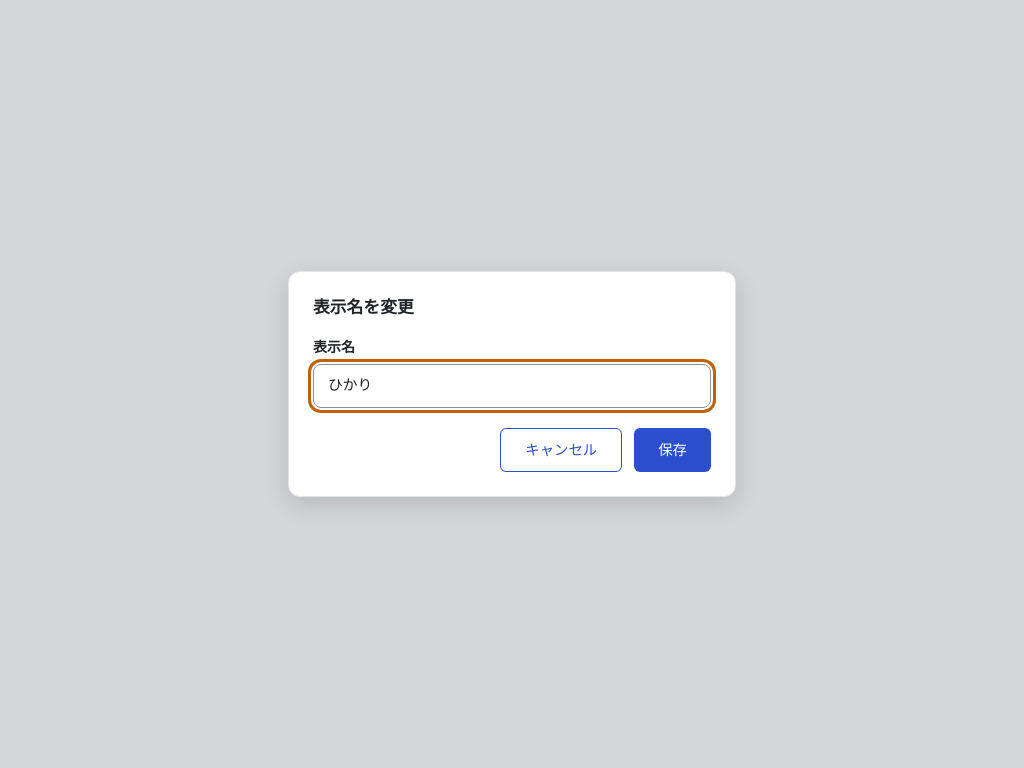
Test: DisplayNameDialog › 入力の誤りは、欄の下に出して、閉じない
This screenshot has width=1024, height=768.
Click the button "保存": (673, 450) top-left (634, 428), bottom-right (711, 472)
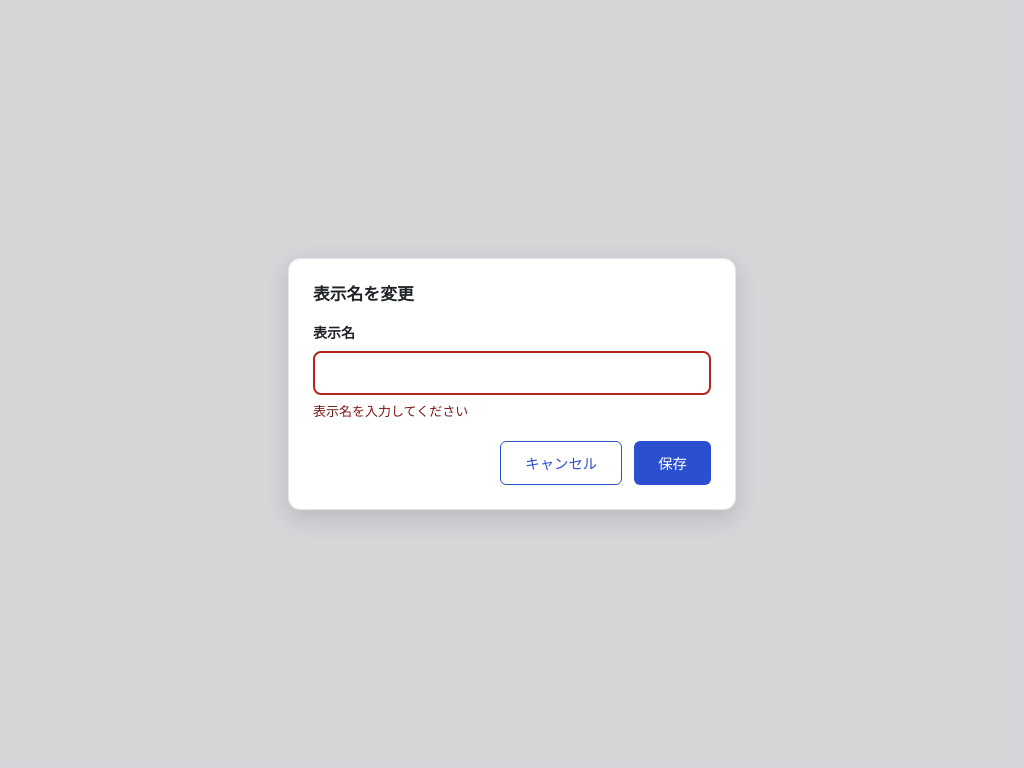
Now the text "表示名を入力してください" is shown, box top-left (313, 402), bottom-right (468, 418)
